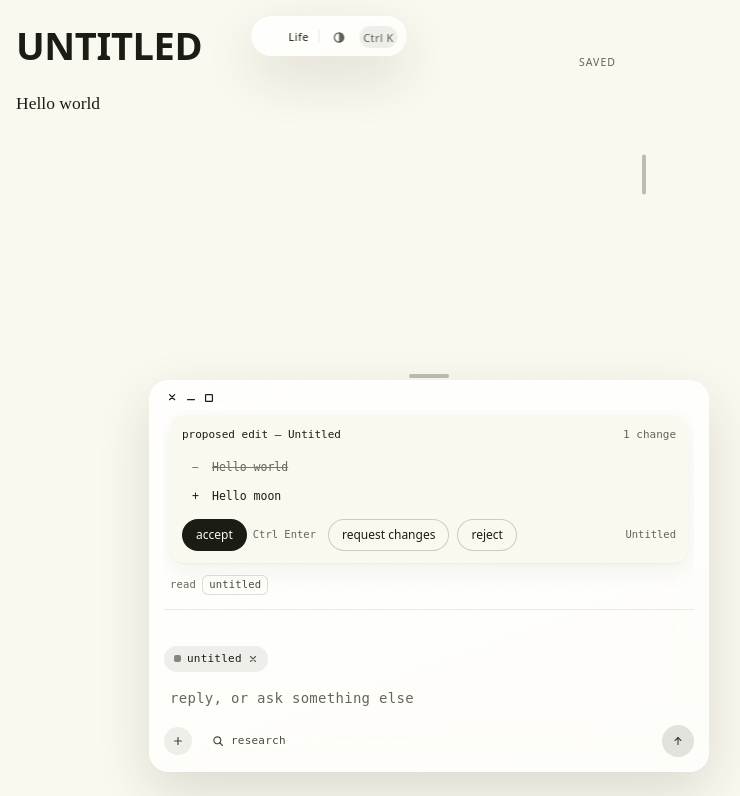
KAN-302 path test harness › an accepted card's header follows a rename of its target page (KAN-302 item 2)
Check: the text box named "Message Pond" is enabled, box [164,686,694,711]
Check: the text "proposed edit — Untitled" is shown, box [182,427,341,444]
Click the button "accept": (214, 535) [182,519,247,551]
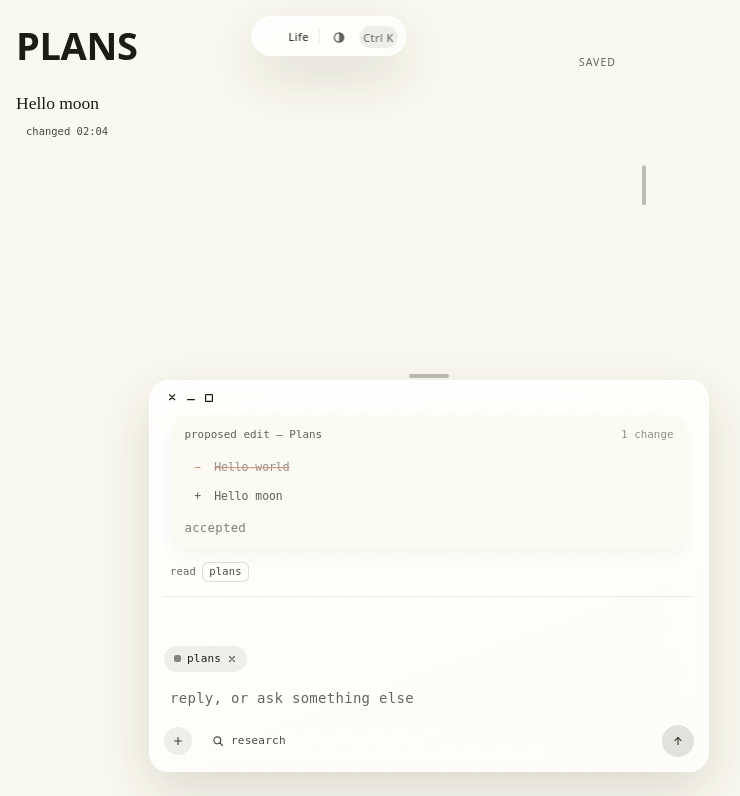
Check: the text "proposed edit — Plans" is shown, box [184,428,322,444]
Check: the text "— Untitled" is gone
